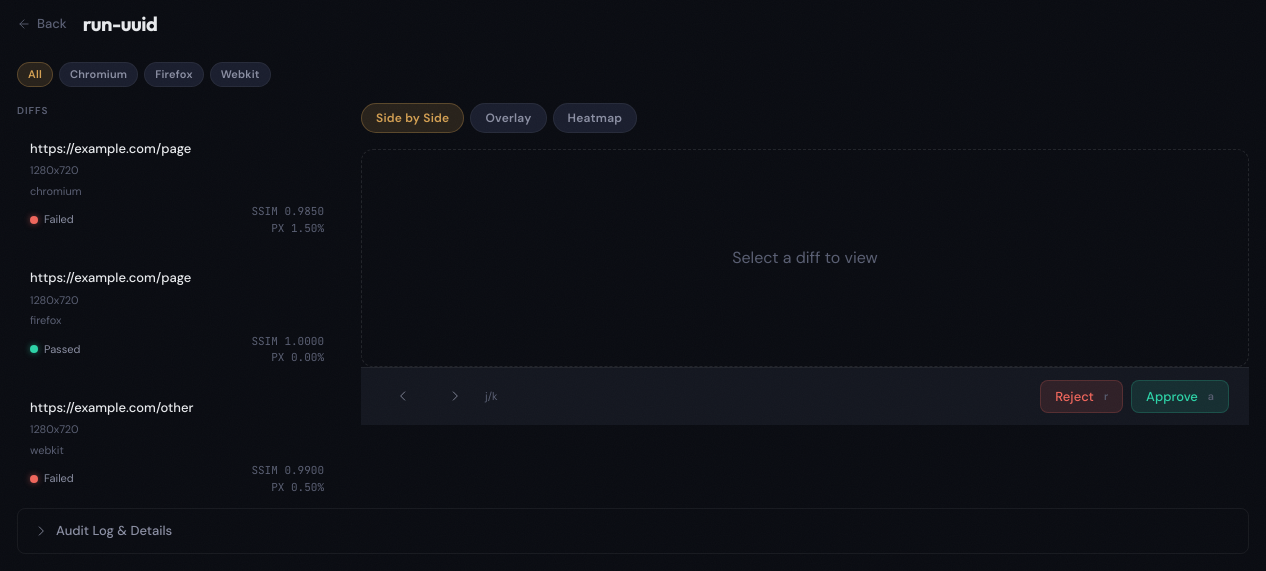
DiffPage › "All" tab shows all diffs across browsers
// First filter to chromium
Click the button "Chromium" at (99, 74), box [59,62,138,86]
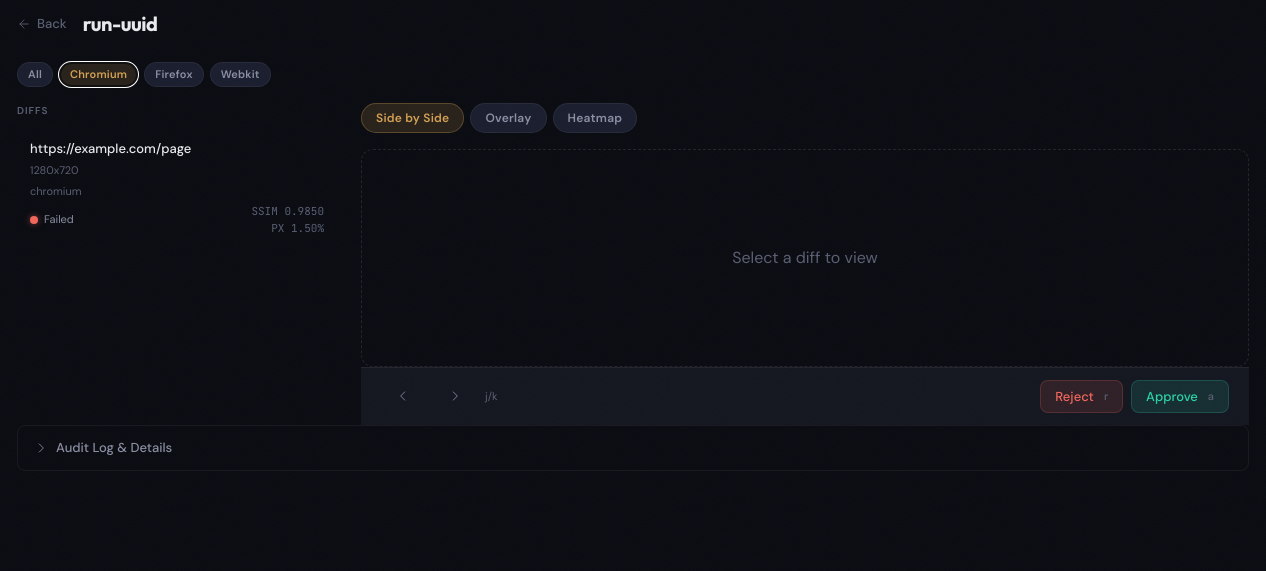
// Click "All" tab
Click the button "All" at (35, 74), box [17,62,53,86]
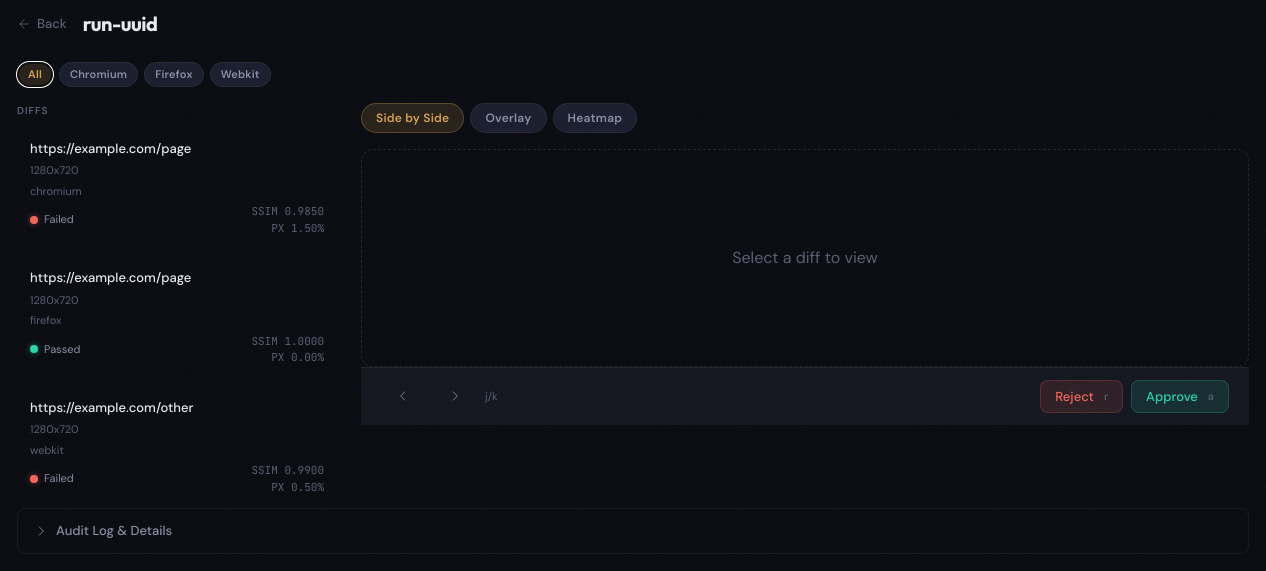
Check: the text "chromium" is shown, box [30,184,82,198]
Check: the text "firefox" is shown, box [30,313,62,327]
Check: the text "webkit" is shown, box [30,442,64,456]
